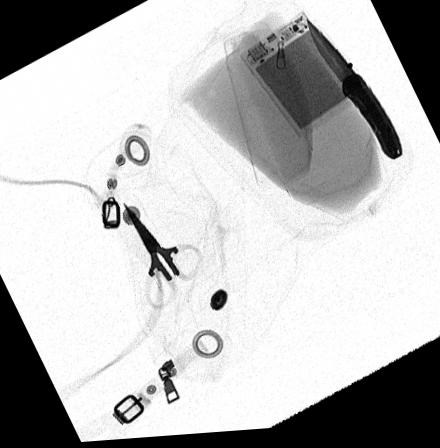Knife: (304, 19, 403, 167)
Powerbank: (238, 14, 362, 142)
Scissors: (122, 201, 204, 311)
